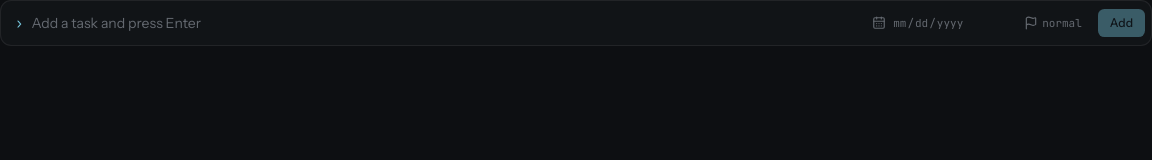
Test: QuickAdd › keeps the text and explains when saving fails
The width and height of the screenshot is (1152, 160).
Type "Call the bank" into the field named "New task".
click(444, 23); type("Call the bank")  # box x1=31 y1=7 x2=856 y2=39
Then press Enter
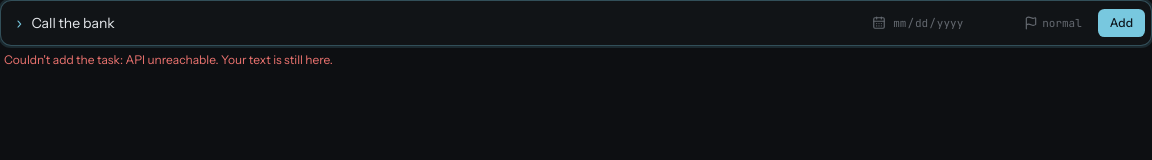
Check: the message shows "API unreachable", box x1=125 y1=52 x2=216 y2=67
